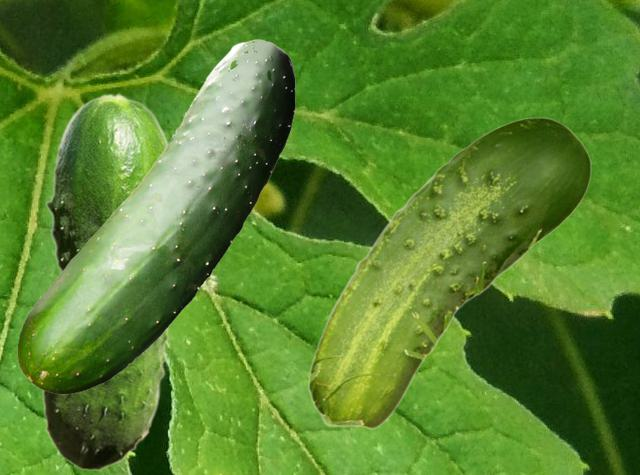cucumber: (17, 39, 294, 393), (307, 117, 590, 428), (42, 92, 171, 470)
